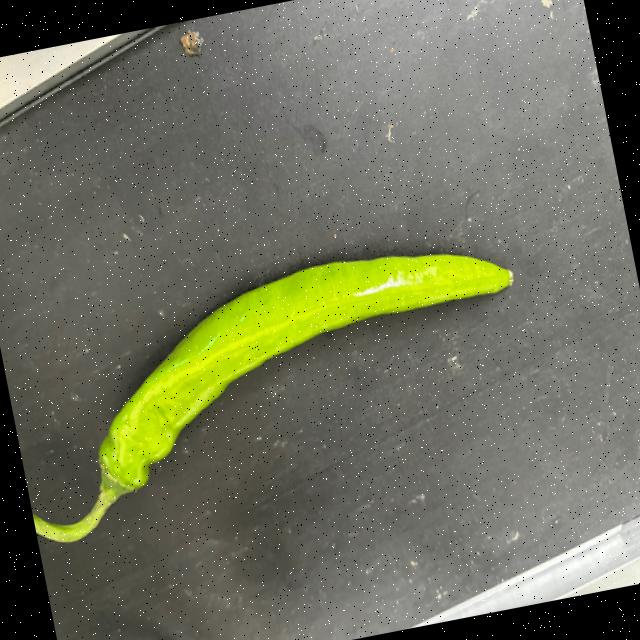chili: (99, 254, 512, 501)
